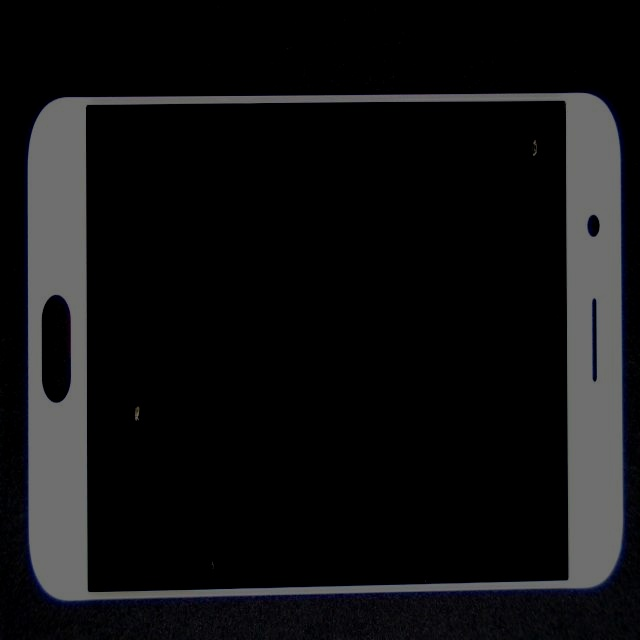stain: (244, 78, 640, 262), (68, 156, 194, 587)
